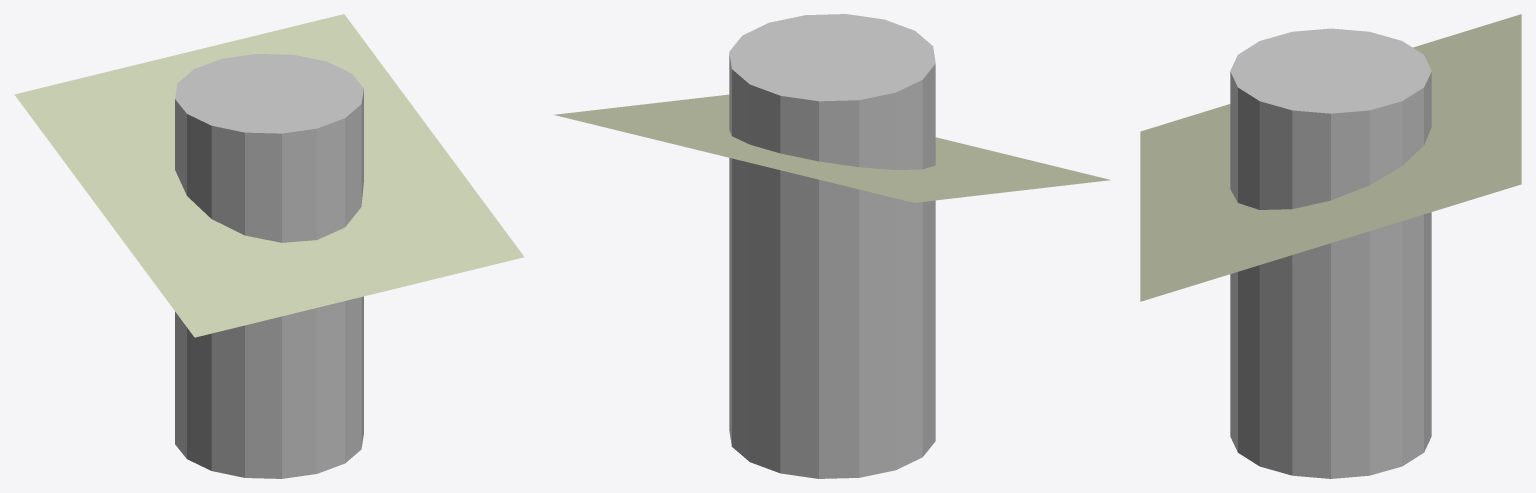
The model's file is CutterCylindre0.obj.
3 views of the same model, side by side, from view 1: azimuth 30°, elevation 25°; view 2: azimuth 150°, elevation 25°; view 3: azimuth 270°, elevation 25° (orthographic). The views are drawn at different scales.
Parts seen in each view (by area): view 1: topP, Cylinder1; view 2: Cylinder1, topP; view 3: Cylinder1, topP.
Part boxes in pixels (x1=…): topP: x1=14, y1=14, x2=524, y2=337; Cylinder1: x1=175, y1=53, x2=363, y2=478; Cylinder1: x1=729, y1=14, x2=935, y2=478; topP: x1=554, y1=94, x2=1110, y2=202; Cylinder1: x1=1230, y1=28, x2=1431, y2=478; topP: x1=1140, y1=14, x2=1521, y2=301.
Size of the model in its own units: 2 by 2 by 1.89.
